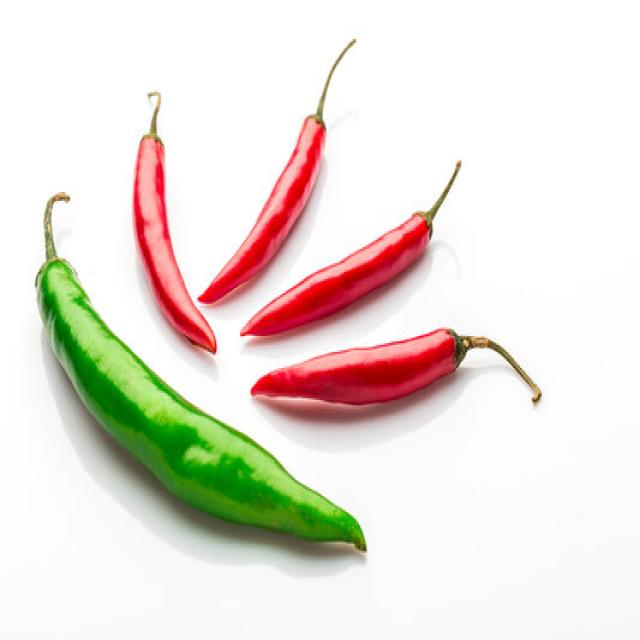Chilli: (34, 188, 368, 553), (196, 36, 357, 306), (239, 158, 461, 338), (248, 325, 542, 407), (131, 89, 217, 354)
